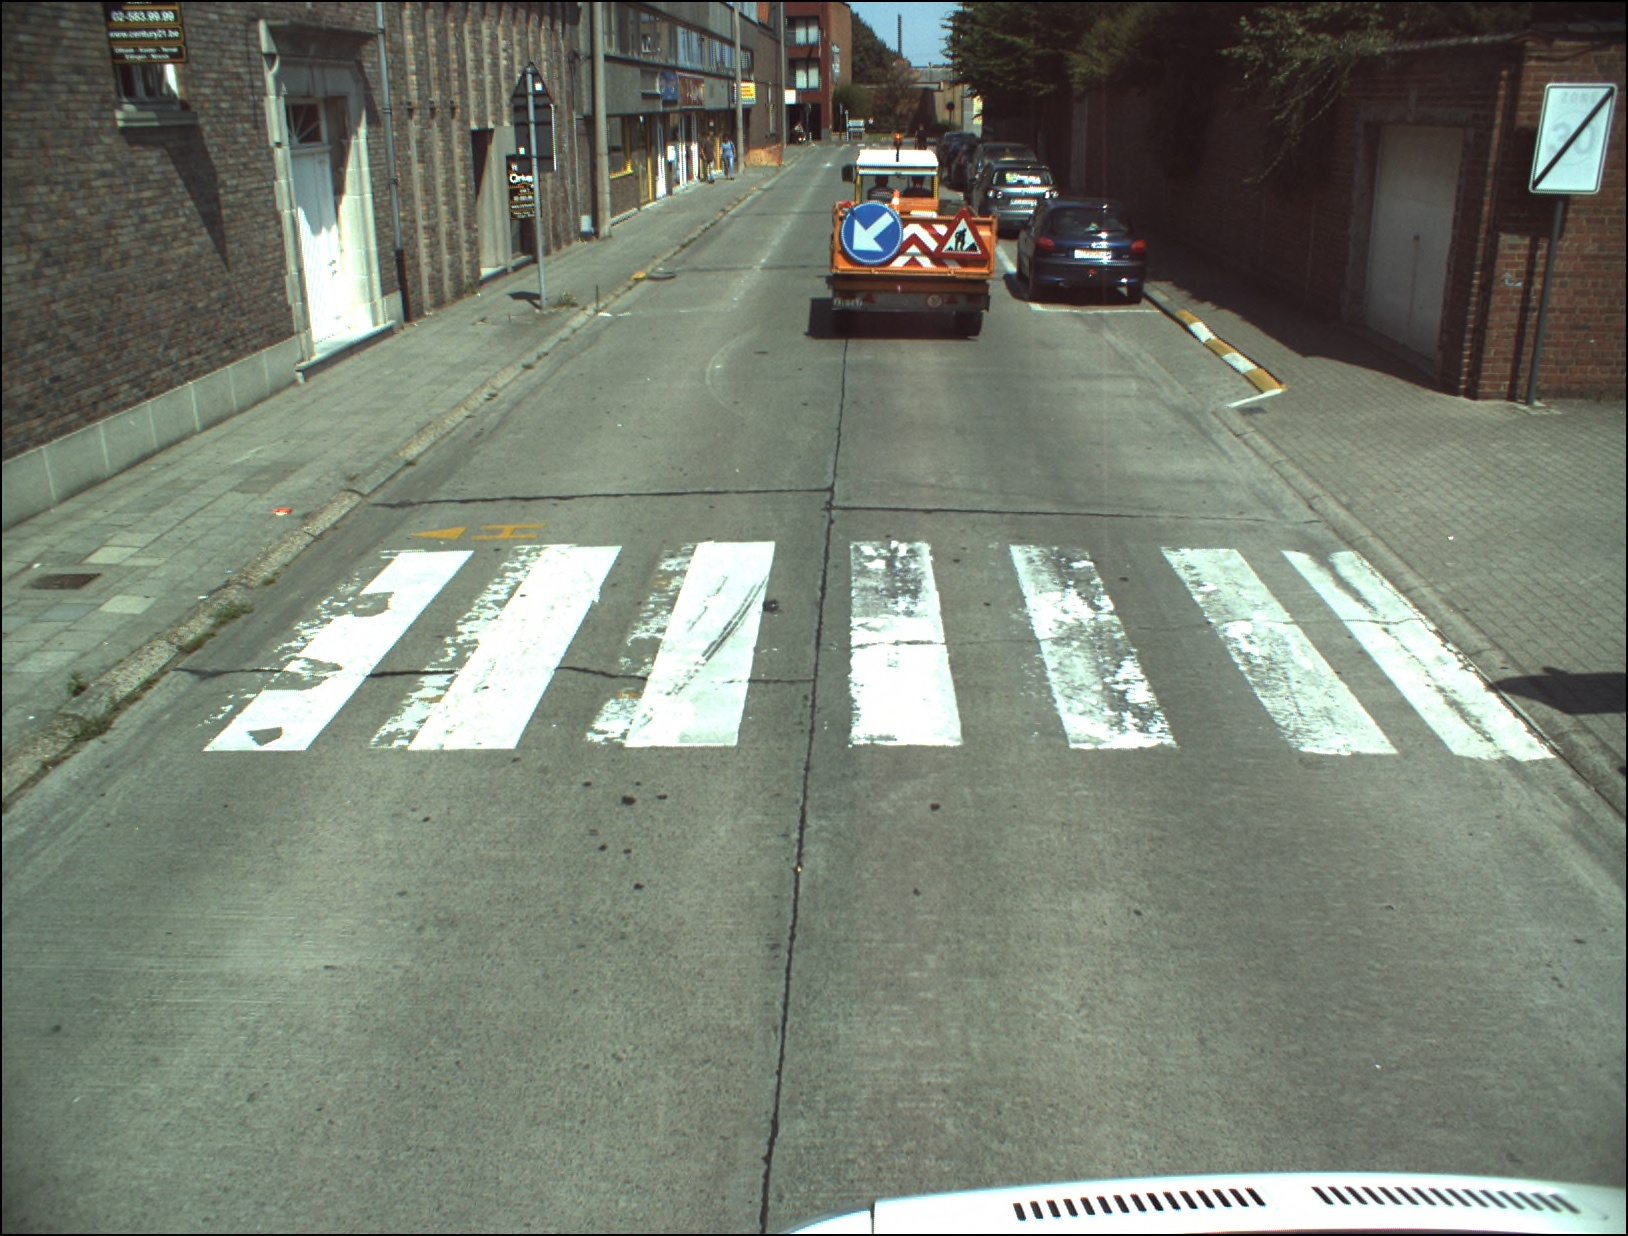construction: (932, 208, 988, 257)
passleft: (840, 200, 902, 265)
